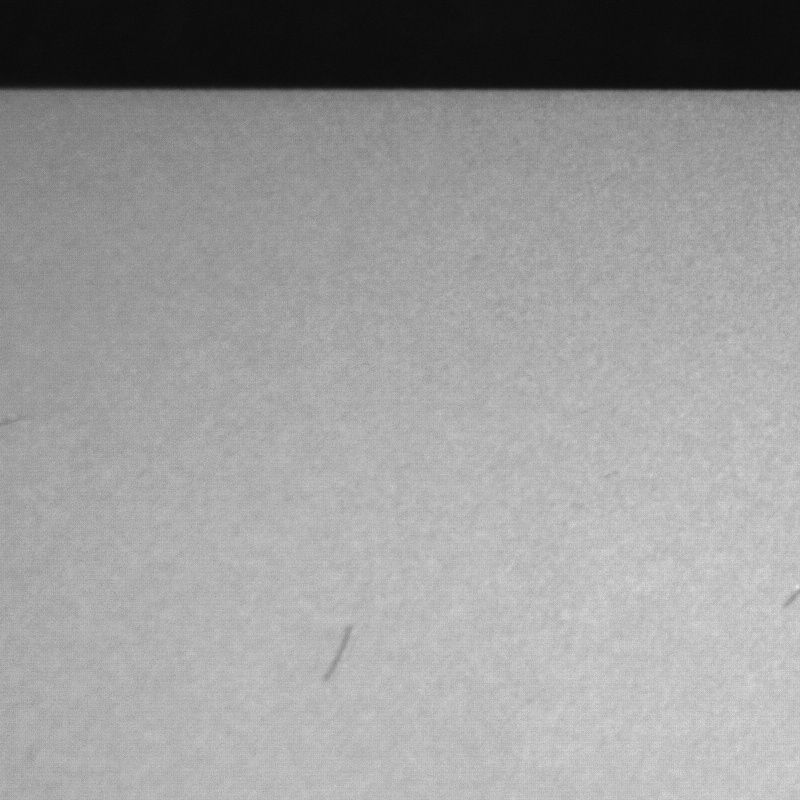defect: (320, 625, 354, 682), (778, 582, 800, 614)
